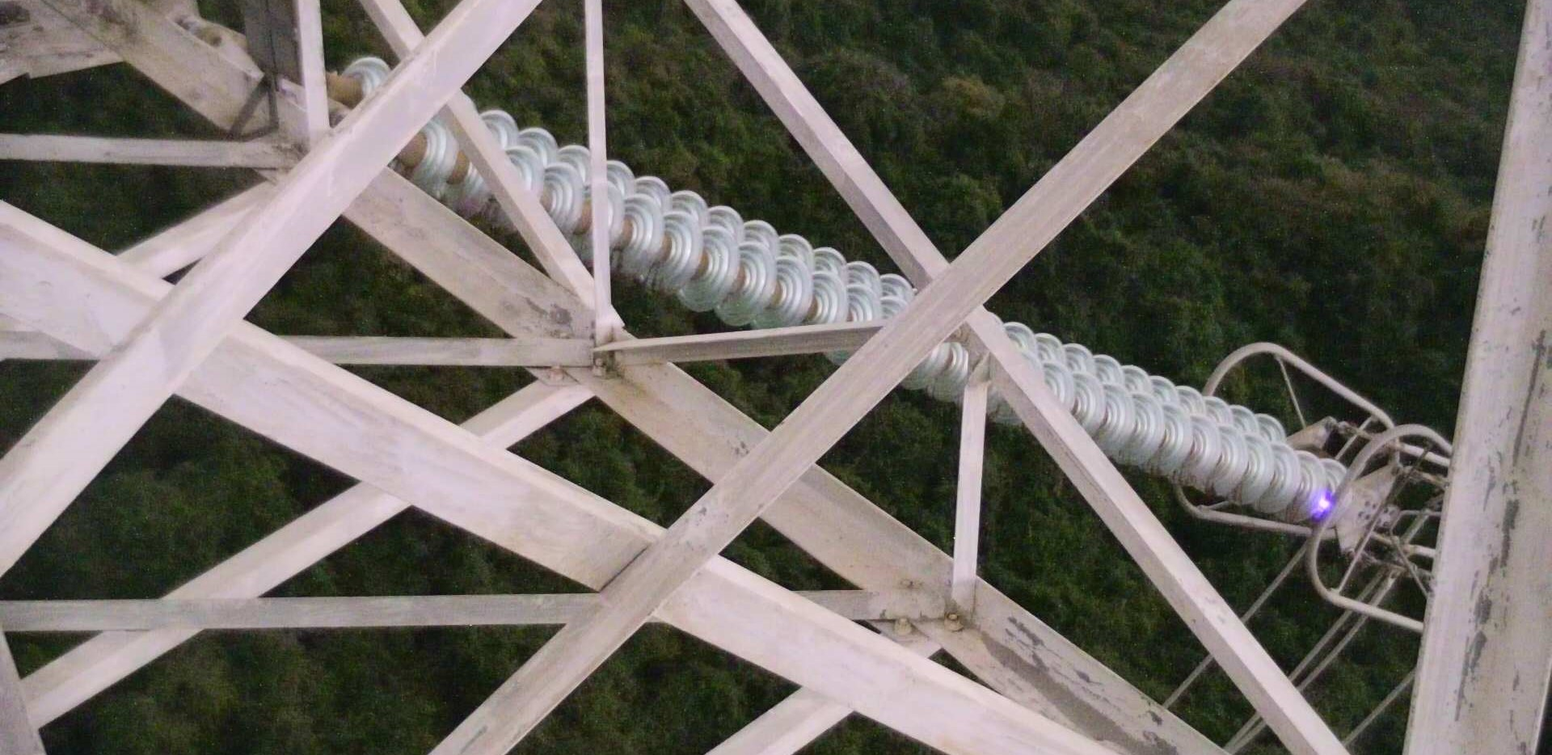绝缘子污闪: (1310, 487, 1335, 521)
